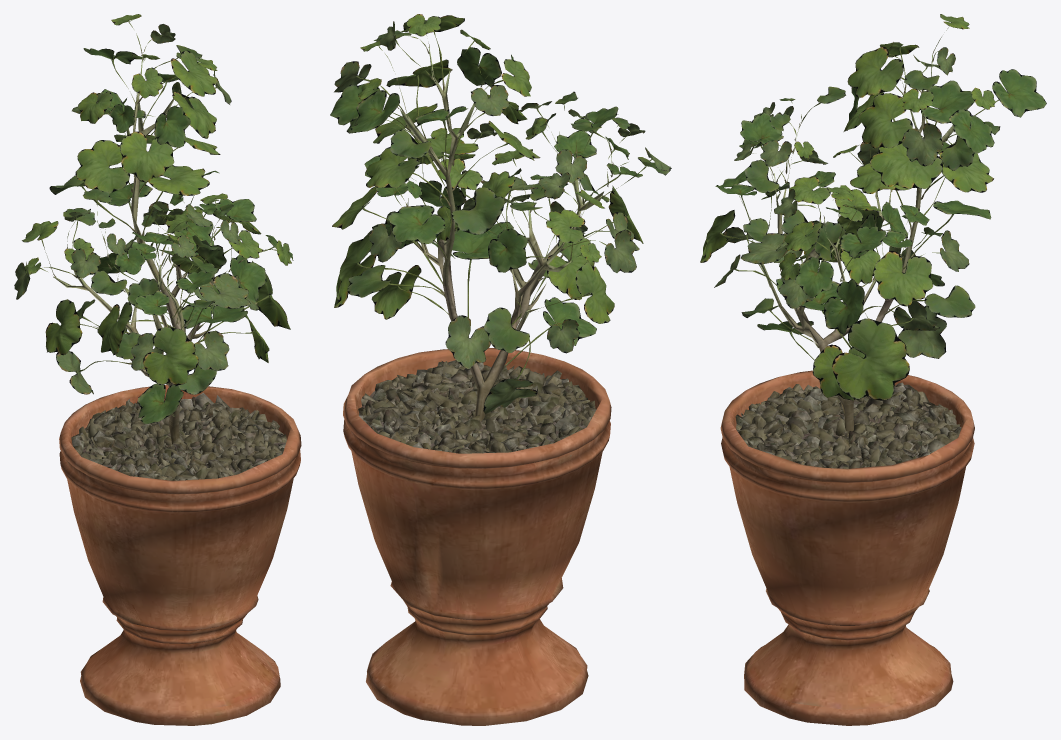
Rendered from potted_plant_01.glb.
The picture shows the model from 3 angles, left to right: view 1: azimuth 30°, elevation 25°; view 2: azimuth 150°, elevation 25°; view 3: azimuth 270°, elevation 25°; orthographic projection. The views are drawn at different scales.
Visible parts, largest first — view 1: potted_plant_01_stem, potted_plant_01_leaves; view 2: potted_plant_01_stem, potted_plant_01_leaves; view 3: potted_plant_01_stem, potted_plant_01_leaves.
Boxes of the visible parts, left/top/right/bottom form: potted_plant_01_stem: left=54, top=54, right=301, bottom=725; potted_plant_01_leaves: left=14, top=14, right=293, bottom=424; potted_plant_01_stem: left=343, top=47, right=612, bottom=725; potted_plant_01_leaves: left=330, top=14, right=671, bottom=413; potted_plant_01_stem: left=720, top=55, right=974, bottom=725; potted_plant_01_leaves: left=700, top=14, right=1046, bottom=400.
Bounding box in the file's own units: 0.4352 × 0.989 × 0.4694.
Materials: 2 (2 with a texture image).
